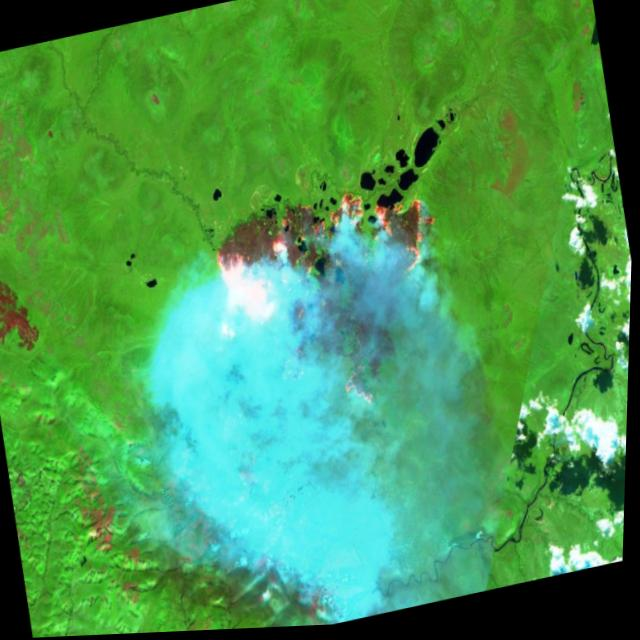fire: (202, 168, 472, 445)
